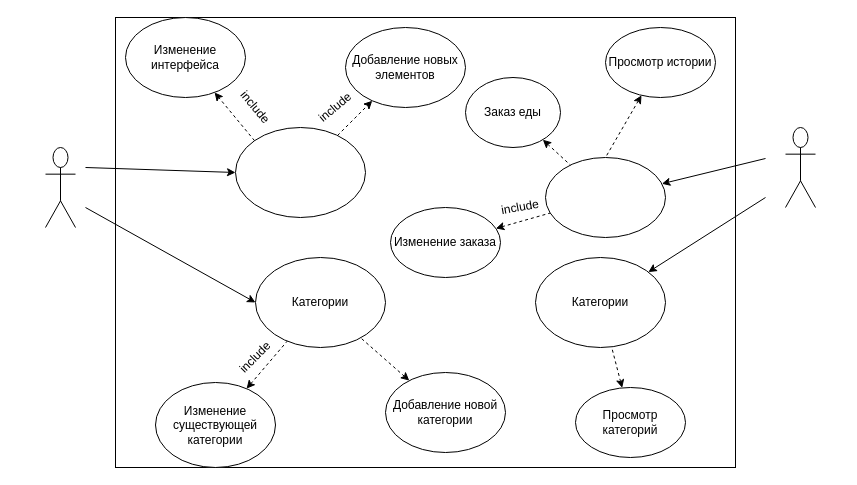
Image size: 857x485. Some labels were removed from this diagram. The shapes that lost their labels are listed below. From the top down, each one's centre as x and y in pixels, then its label:
the point at 60,187: Администратор
the point at 300,172: Интерфейс
the point at 800,167: Пользователь
the point at 605,197: Заказ
